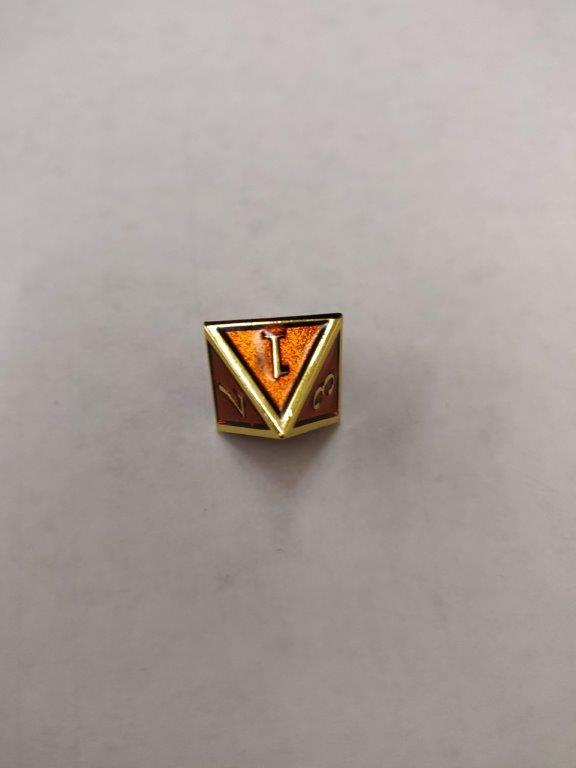d8-1: (201, 311, 344, 439)
